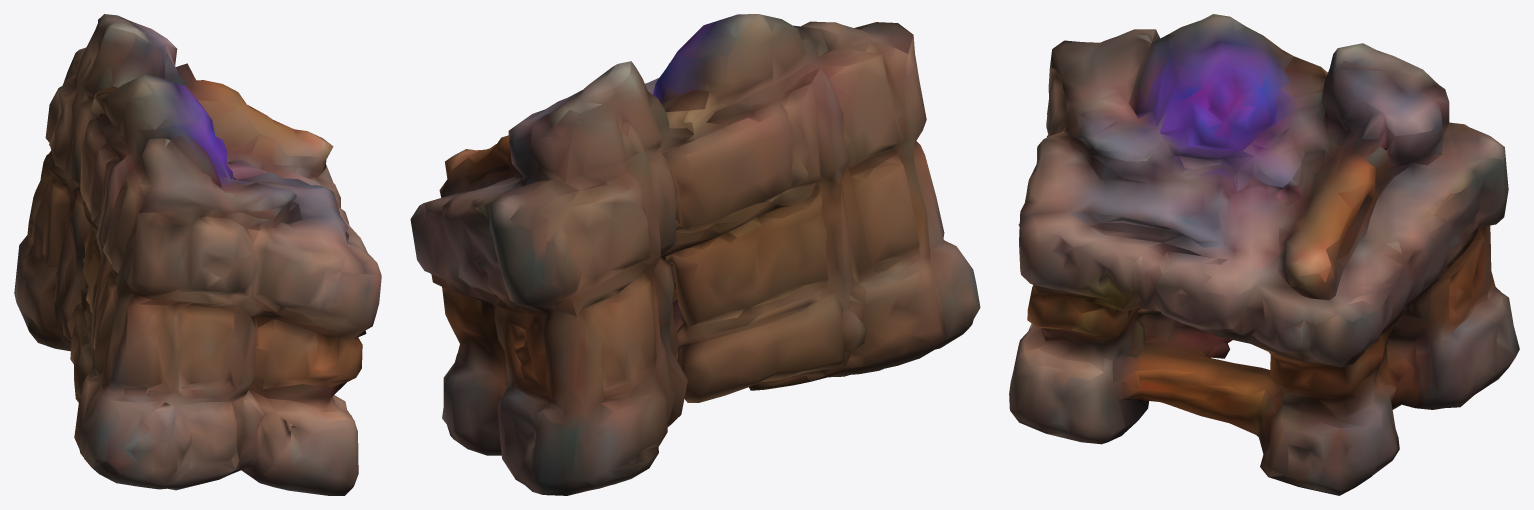
Rendered from gem_bench.glb.
3 views of the same model, side by side, from view 1: azimuth 30°, elevation 25°; view 2: azimuth 150°, elevation 25°; view 3: azimuth 270°, elevation 25° (orthographic). The views are drawn at different scales.
Parts seen in each view (by area): view 1: model; view 2: model; view 3: model.
Part boxes in pixels (x1,y1,x2,y2): model: (14, 14, 381, 495); model: (410, 14, 980, 495); model: (1009, 14, 1519, 495).
Size of the model in its own units: 1.32 by 1.32 by 1.6.
1 material, 1 textured.
